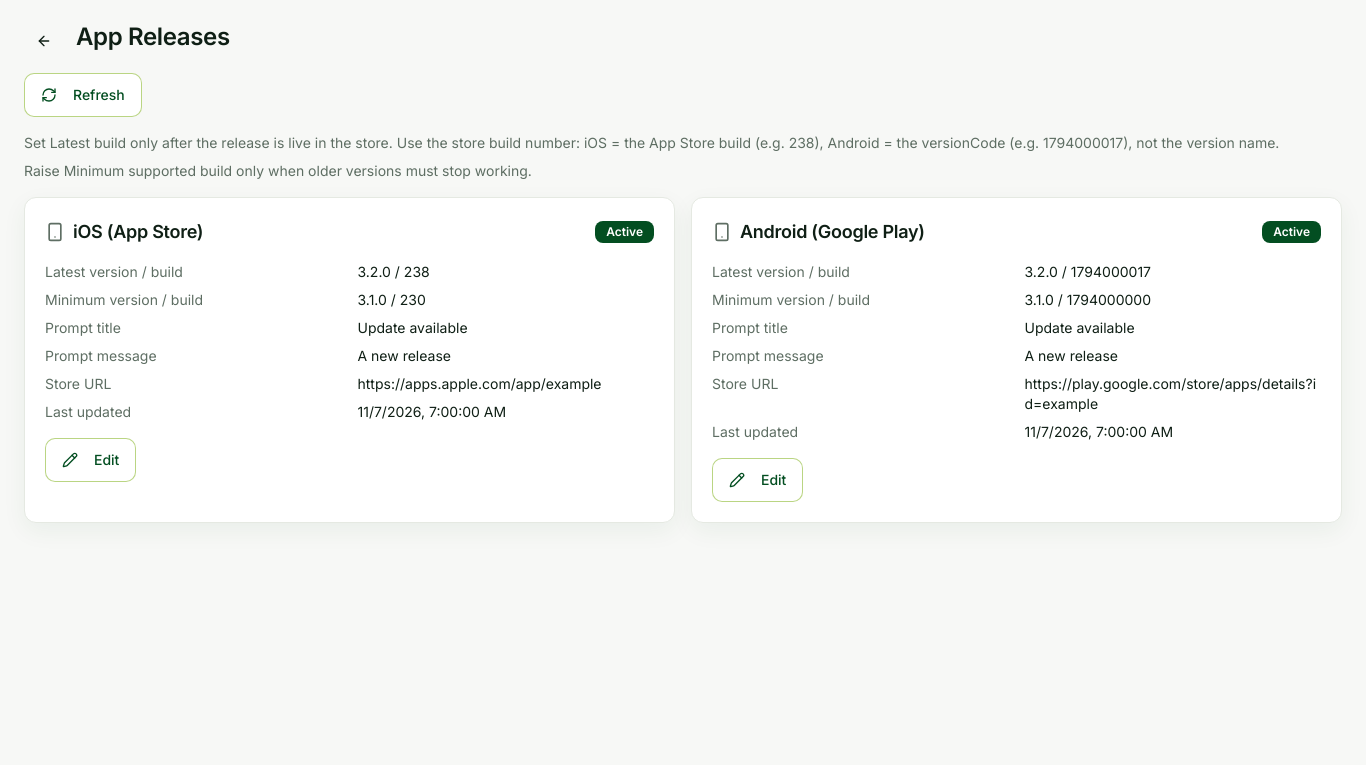
Test case: App Releases access and confirmation › requires reason and confirmation before any save
Later steps or results of the test are not shown.
Click the button "Edit" below "https://apps.apple.com/app/example" at (91, 460), box [45, 438, 136, 482]
(page scrolled)
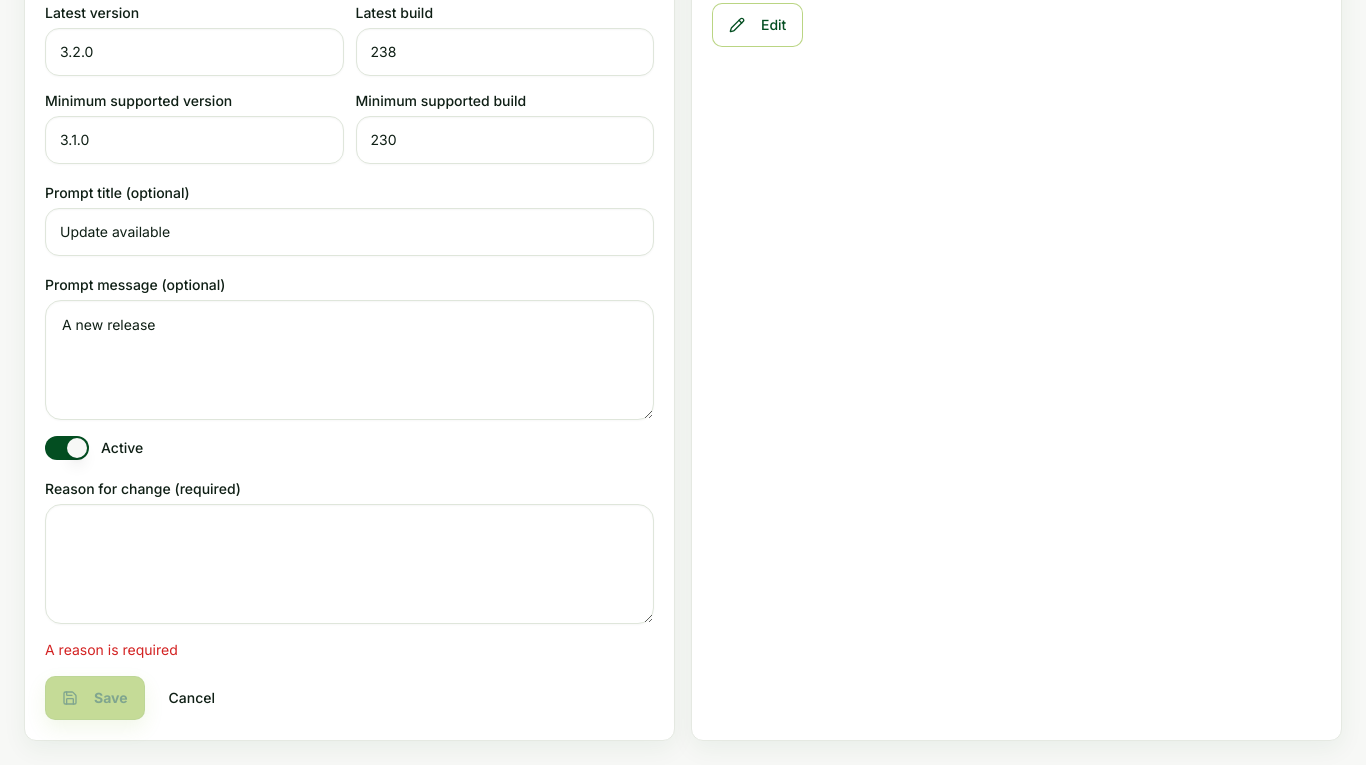
Result: the button "Save" is disabled at [45, 676, 144, 720]
Type "Live in store" into the text box labelled "Reason for change (required)" at (350, 564), box [45, 504, 654, 624]
(page scrolled)
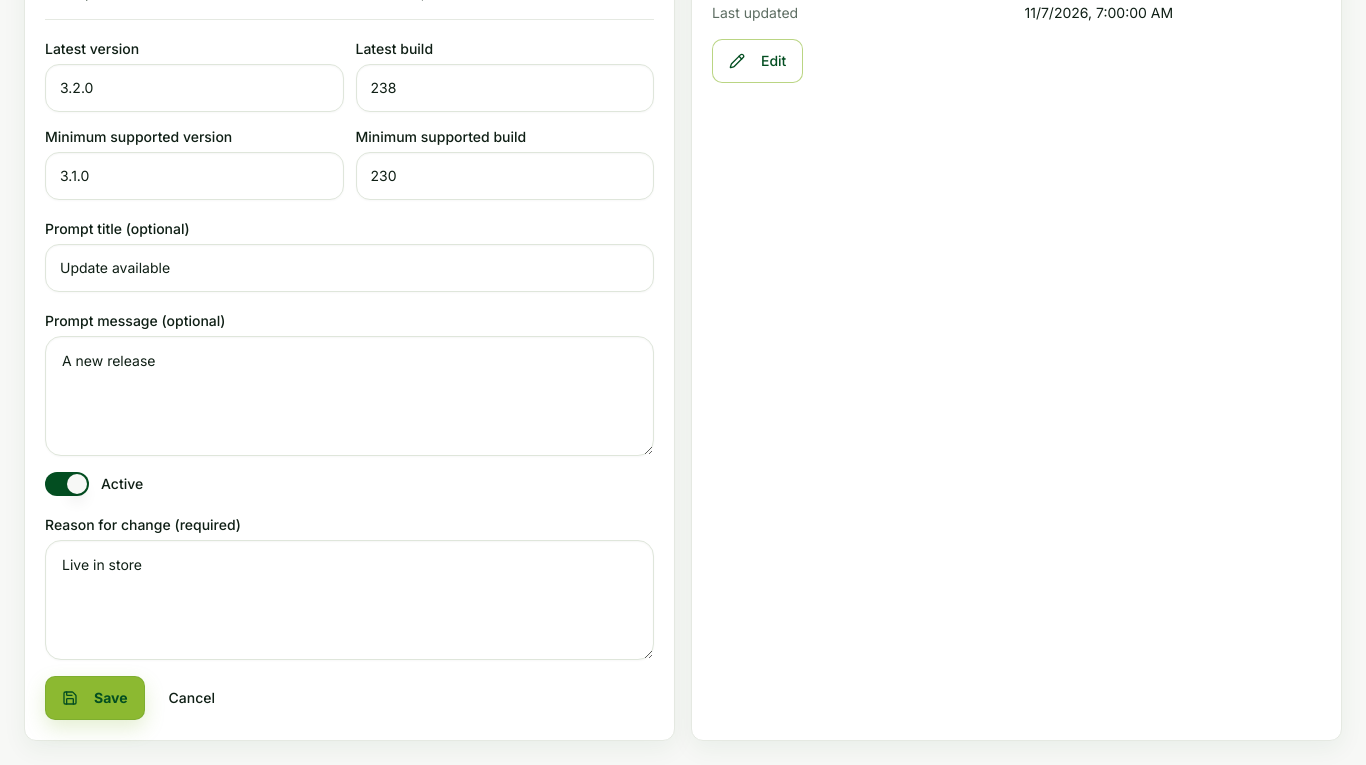
Click the button "Save" at (95, 698), box [45, 676, 144, 720]
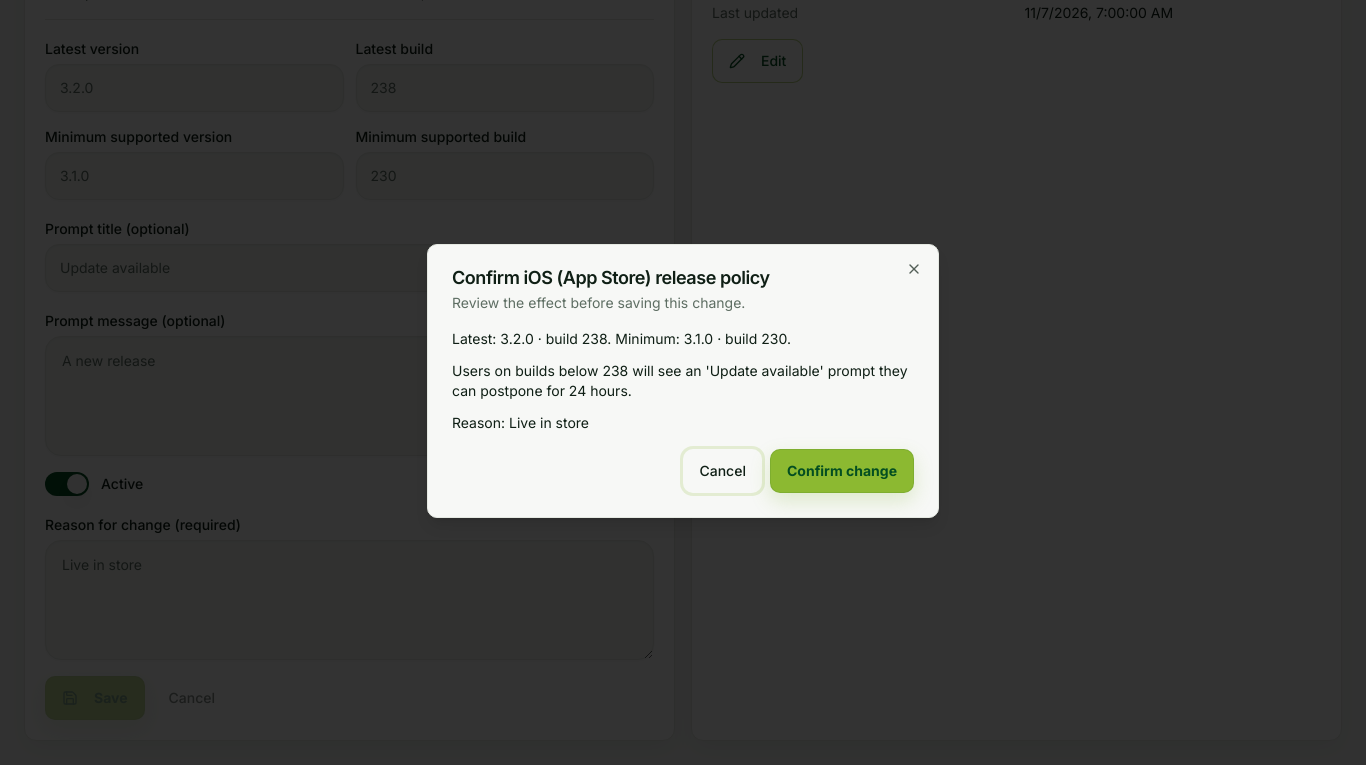
Result: the dialog is shown at [427, 244, 939, 518]
